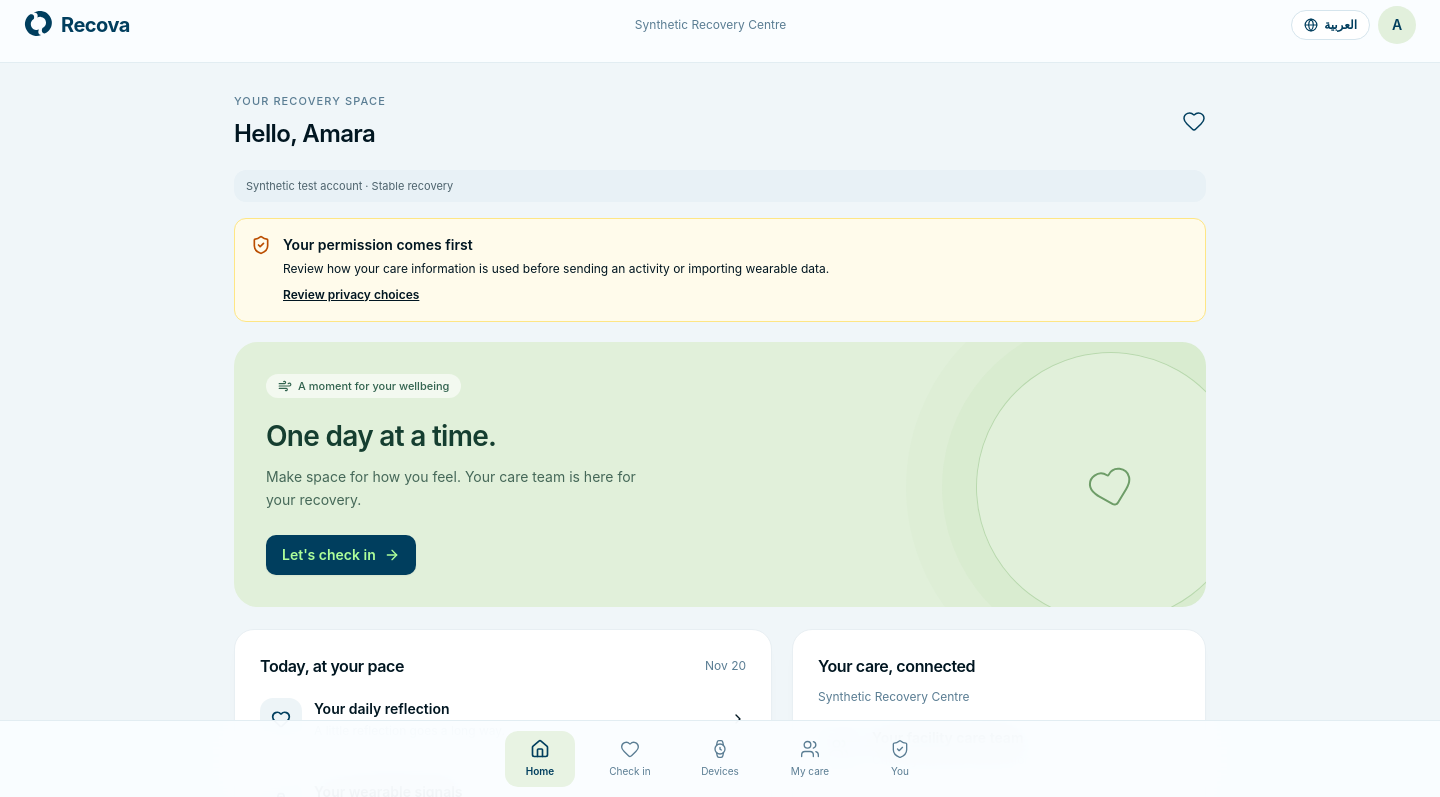
it: Participant programme journeys › keeps submission unavailable while care-data permission is absent
Expected: the text "Your permission comes first" is shown, [283, 236, 473, 253]
Click the button "Check in" at (630, 759), box [595, 731, 665, 787]
(page scrolled)
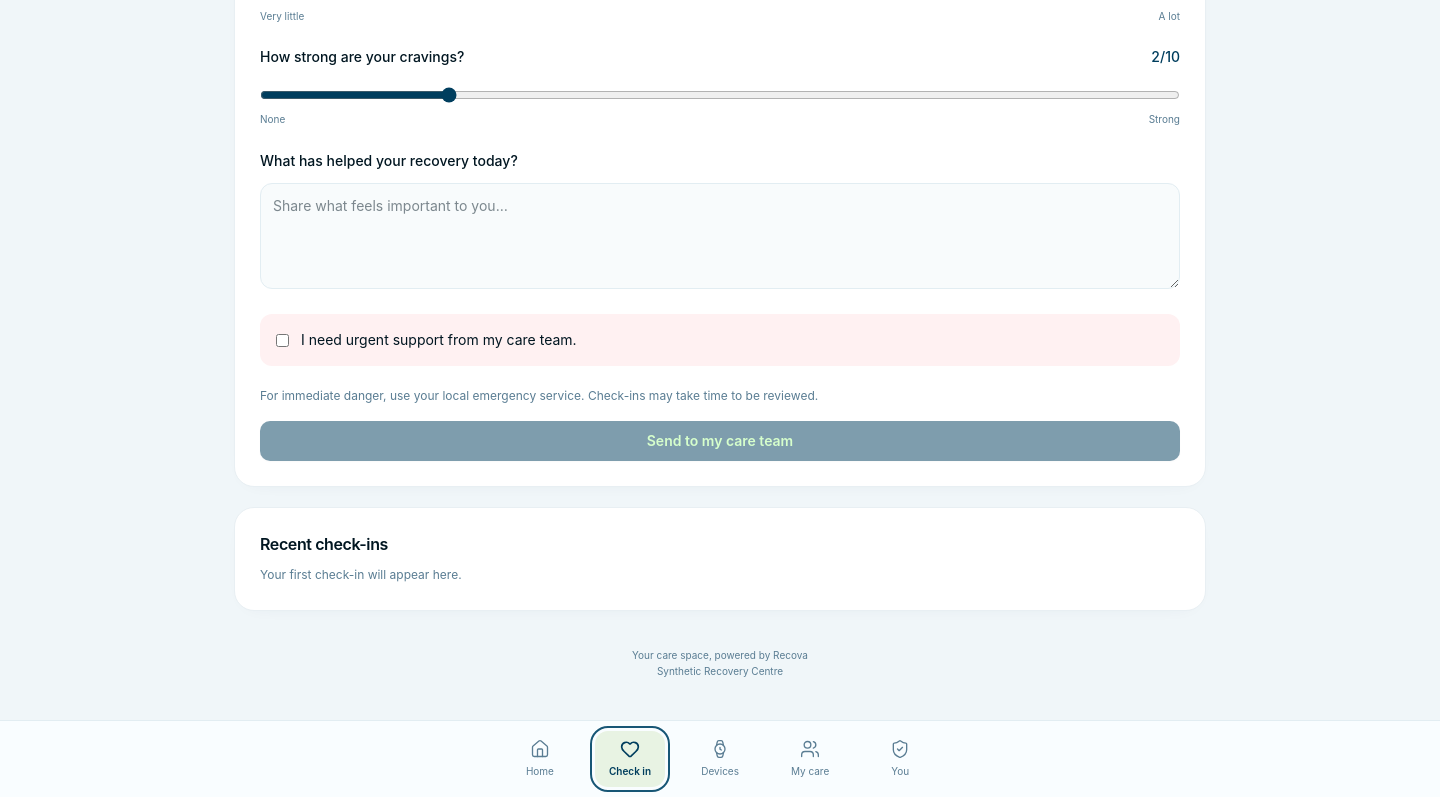
Expected: the button "Send to my care team" is disabled, [260, 421, 1180, 461]
